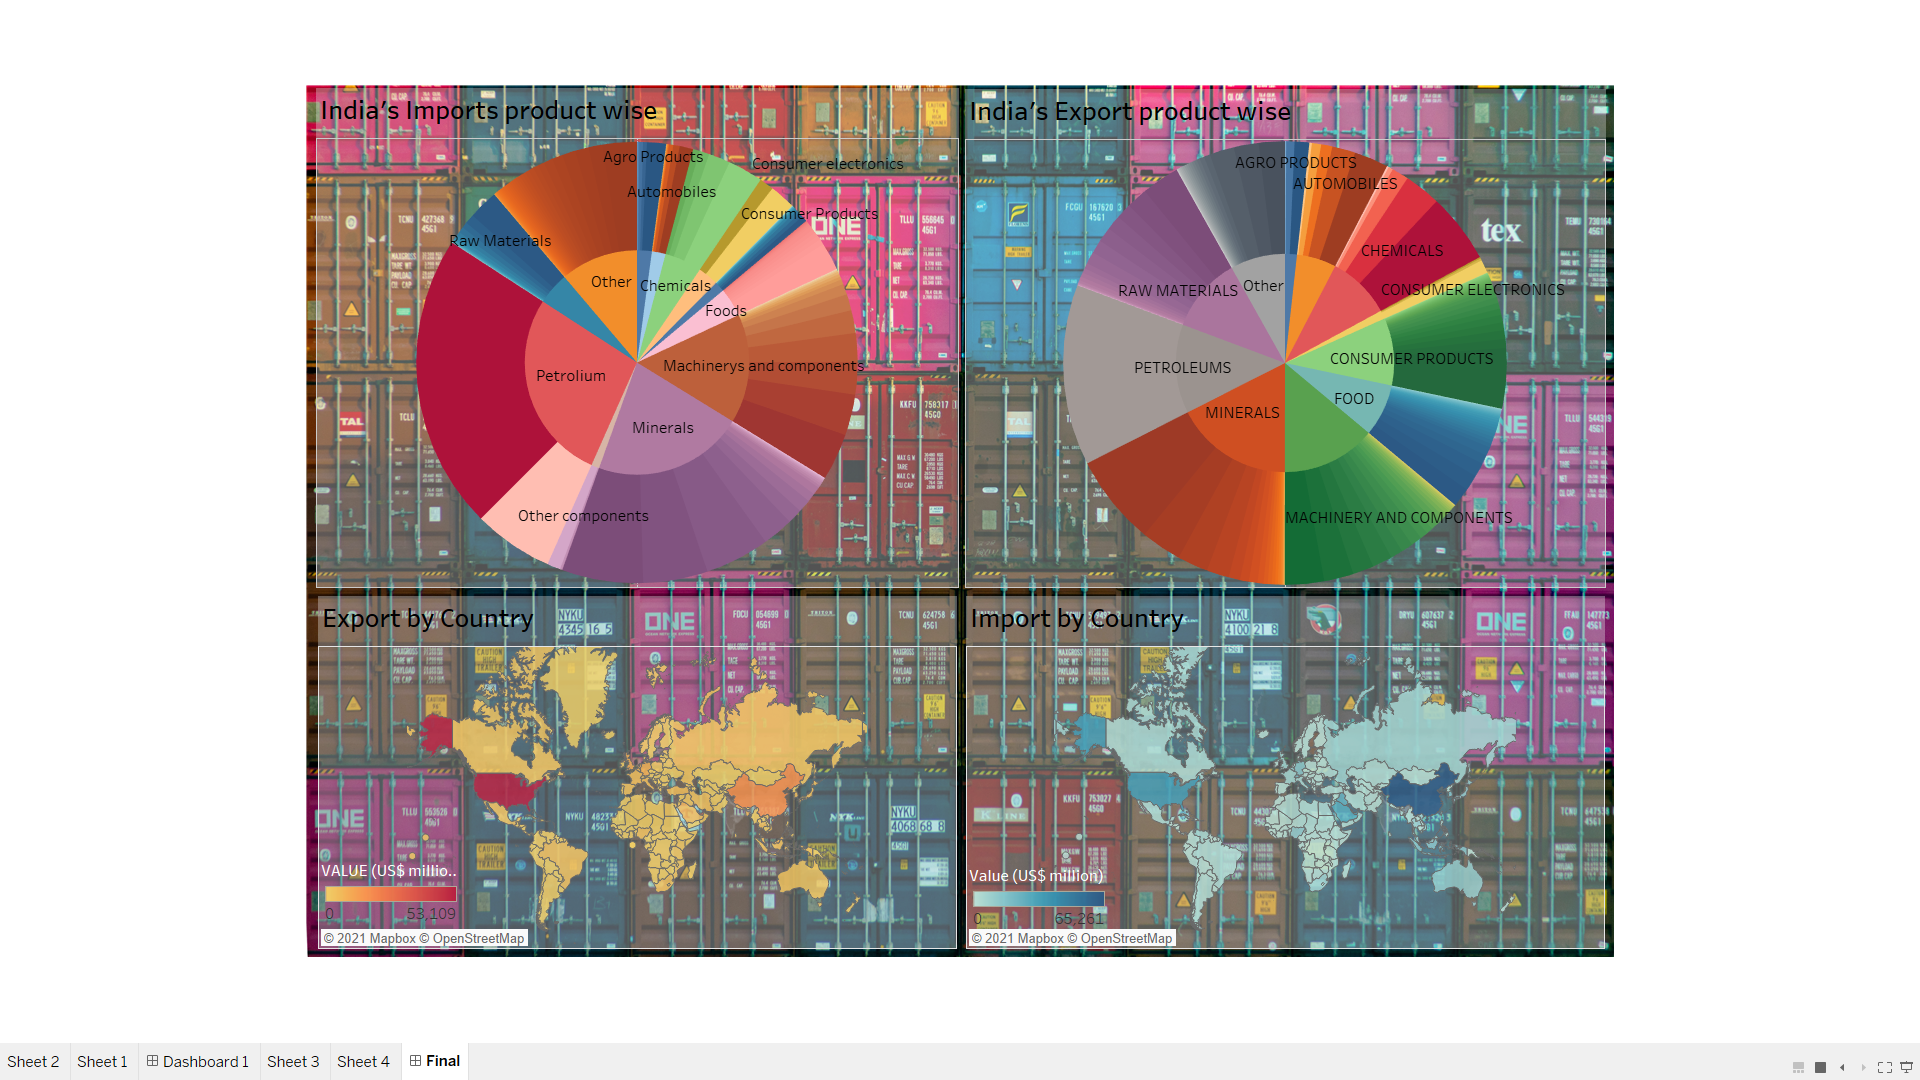

This screenshot's page, from the dashboard's own definition file:
{"tool":"tableau","page":{"name":"Final","canvas":[1344,896],"ordinal":1},"visuals":[{"type":"worksheet","box":[0,0,1344,896]},{"type":"worksheet","param":"horz","box":[8,8,1328,880]},{"type":"worksheet","box":[8,8,1328,880]},{"type":"worksheet","param":"C:/Users/giday/Downloads/teng-yuhong-qMehmIyaXvY-unsplash.jpg","box":[8,8,1328,880]},{"type":"worksheet","title":"Sheet 1","mark":"Pie","cols":["Calculation_536209865393254403","Calculation_536209865393254403"],"box":[28,15,643,500]},{"type":"worksheet","title":"Sheet 2","mark":"Pie","cols":["Calculation_751538224571080705","Calculation_751538224571080705"],"box":[677,16,641,499]},{"type":"worksheet","param":"horz","box":[26,519,1295,361]},{"type":"worksheet","title":"Sheet 3","mark":"Automatic","box":[26,519,647.5,361]},{"type":"worksheet","title":"Sheet 4","mark":"Automatic","box":[673.5,519,647.5,361]},{"type":"worksheet","title":"Sheet 3","mark":"Automatic","param":"[federated.0pyxzdy0kbu8or11f3bi80bcy2wr].[sum:VALUE (US$ million):qk]","box":[33,787,140,68]},{"type":"worksheet","title":"Sheet 4","mark":"Automatic","param":"[federated.0pyxzdy0kbu8or11f3bi80bcy2wr].[sum:Value (US$ million):qk]","box":[681,792,140,62]}]}

Visuals, with their boxes on the page's 1344x896 design canvas (x1, y1, x2, y2). These are canvas units, not pixel positions in the 1920x1080 screenshot, which may show the page scaled, cropped or inside an application window:
worksheet: detection(0, 0, 1344, 896)
worksheet: detection(8, 8, 1336, 888)
worksheet: detection(8, 8, 1336, 888)
worksheet: detection(8, 8, 1336, 888)
"Sheet 1" worksheet (Pie marks): detection(28, 15, 671, 515)
"Sheet 2" worksheet (Pie marks): detection(677, 16, 1318, 515)
worksheet: detection(26, 519, 1321, 880)
"Sheet 3" worksheet: detection(26, 519, 674, 880)
"Sheet 4" worksheet: detection(674, 519, 1321, 880)
"Sheet 3" worksheet: detection(33, 787, 173, 855)
"Sheet 4" worksheet: detection(681, 792, 821, 854)
